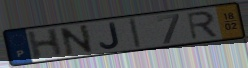7: (156, 13, 182, 45)
H: (25, 26, 64, 61)
I: (128, 17, 143, 50)
J: (98, 21, 123, 50)
N: (58, 23, 96, 57)
R: (185, 10, 220, 41)
